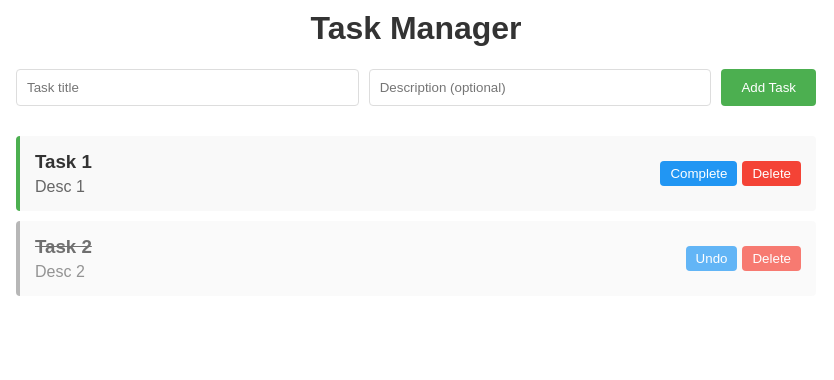
it: App › adds a new task
In the field with placeholder "Task title": (187, 87) [16, 69, 359, 106], type "New Task"
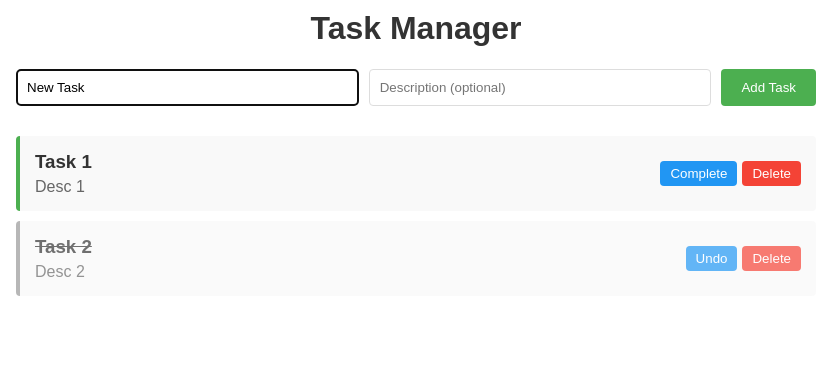
Click the button "Add Task": (769, 87) [721, 69, 816, 106]
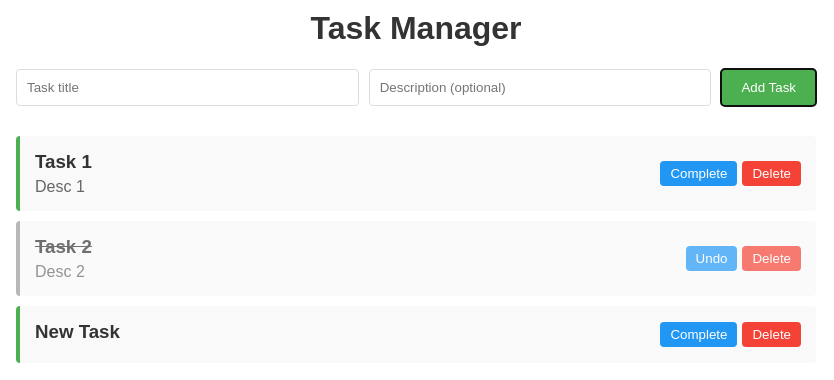
Check: the heading "New Task" is shown, box [35, 321, 120, 342]
